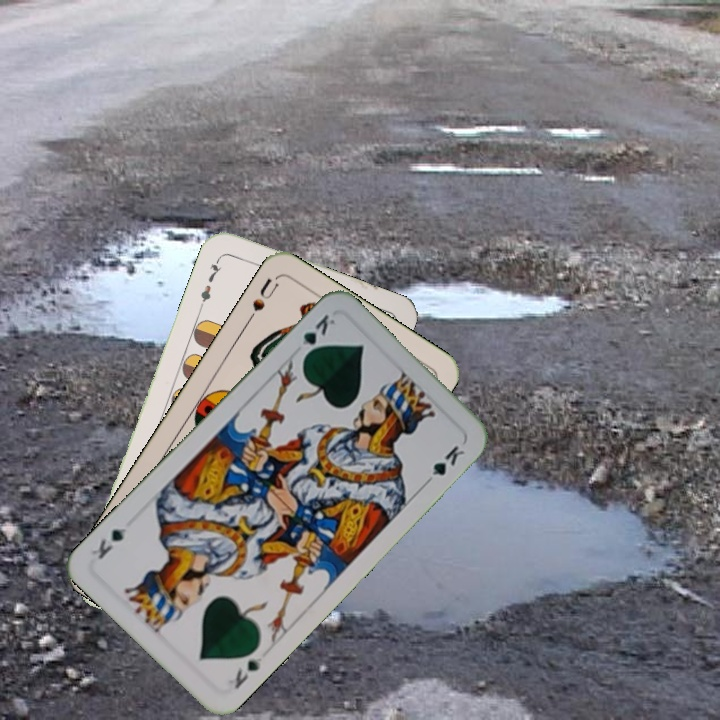E7: (196, 253, 224, 310)
GK: (296, 310, 339, 362), (230, 652, 265, 692)
SU: (243, 273, 282, 326)
